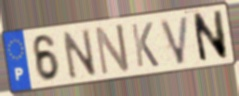6: (30, 32, 62, 84)
K: (129, 21, 161, 70)
N: (190, 8, 230, 65), (93, 21, 132, 78), (59, 26, 99, 81)
V: (158, 13, 191, 67)
